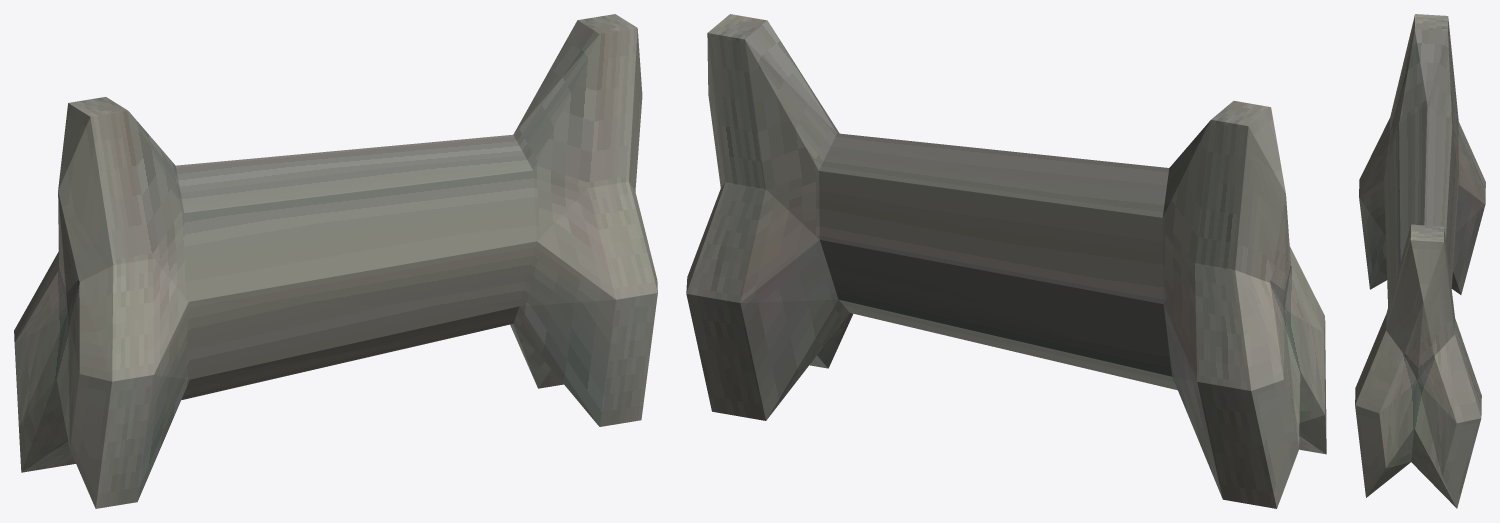
File: one.obj
The picture shows the model from 3 angles, left to right: view 1: azimuth 30°, elevation 25°; view 2: azimuth 150°, elevation 25°; view 3: azimuth 270°, elevation 25°; orthographic projection. The views are drawn at different scales.
Parts seen in each view (by area): view 1: Object_BoneSS00_jpg; view 2: Object_BoneSS00_jpg; view 3: Object_BoneSS00_jpg.
Part boxes in pixels (x1,y1,x2,y2): Object_BoneSS00_jpg: [14, 14, 657, 508]; Object_BoneSS00_jpg: [686, 14, 1326, 508]; Object_BoneSS00_jpg: [1355, 14, 1485, 508].
Size of the model in its own units: 1.09 by 0.7096 by 0.2766.
Materials: 1 (1 with a texture image).
